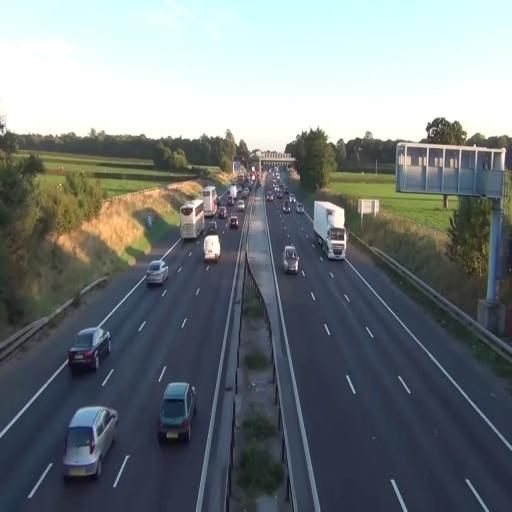vehicle: (62, 404, 118, 480), (63, 407, 118, 479), (157, 380, 195, 444), (158, 383, 197, 442), (68, 326, 112, 374), (68, 328, 111, 374), (314, 199, 346, 260), (314, 202, 347, 259), (179, 199, 205, 240), (180, 199, 205, 240), (146, 259, 169, 290), (203, 233, 221, 265), (146, 261, 168, 287), (282, 244, 300, 273), (202, 186, 217, 216), (204, 235, 220, 262), (283, 246, 298, 273), (227, 214, 239, 229), (206, 222, 217, 235), (228, 185, 237, 198), (226, 195, 236, 206), (237, 173, 245, 186), (218, 207, 227, 218), (230, 216, 238, 228), (283, 200, 290, 213), (296, 203, 304, 214), (242, 188, 250, 198), (237, 200, 244, 211), (267, 191, 273, 201), (277, 189, 283, 198), (216, 197, 221, 206), (237, 185, 242, 193), (290, 195, 295, 202), (248, 183, 252, 191), (284, 188, 289, 194), (274, 185, 278, 191)
